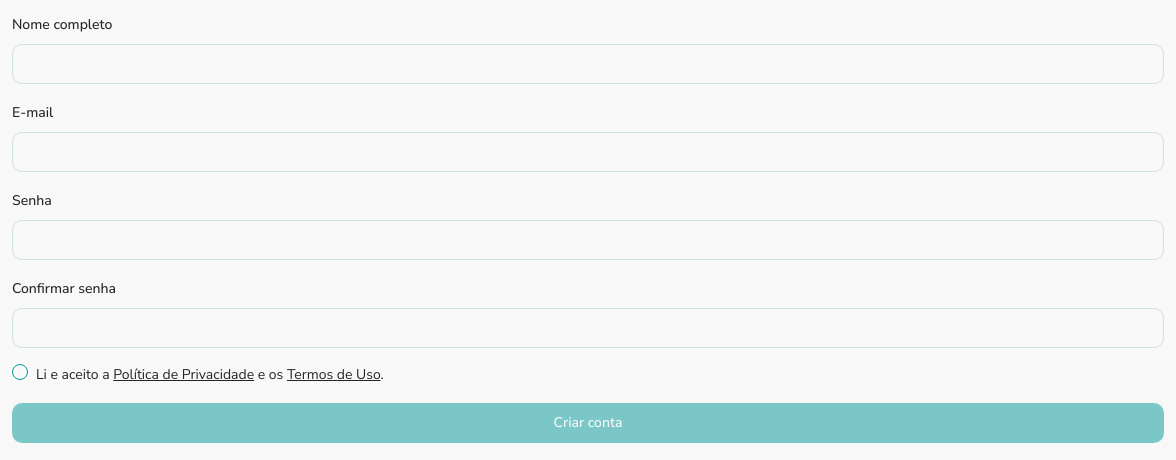
Test: SignupForm › botão habilita quando checkbox é marcado
Click the checkbox. click: coordinates (20, 372)
box: [12,364,28,380]
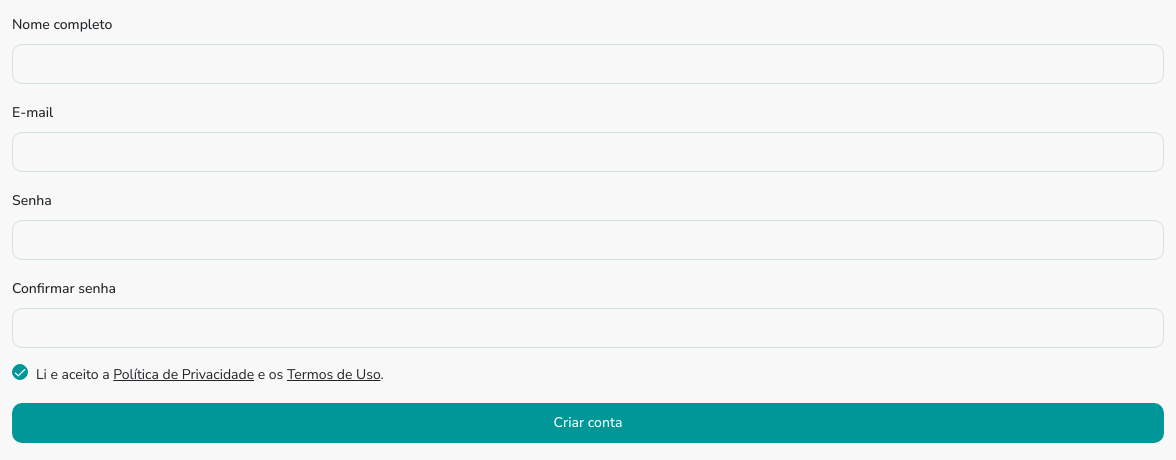
Expected: the button "Criar conta" is enabled, [12,403,1164,443]
